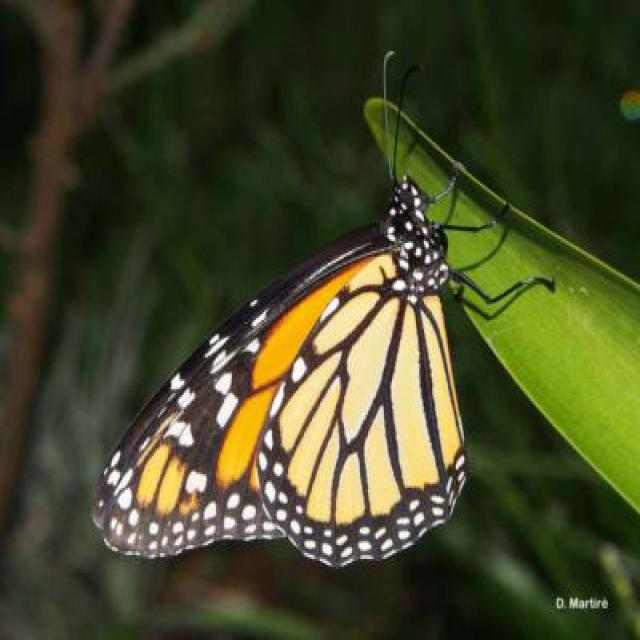antennae: (371, 52, 422, 188)
body: (381, 176, 461, 295)
insect: (86, 48, 558, 566)
legs: (424, 148, 556, 319)
wings: (91, 231, 469, 567)
